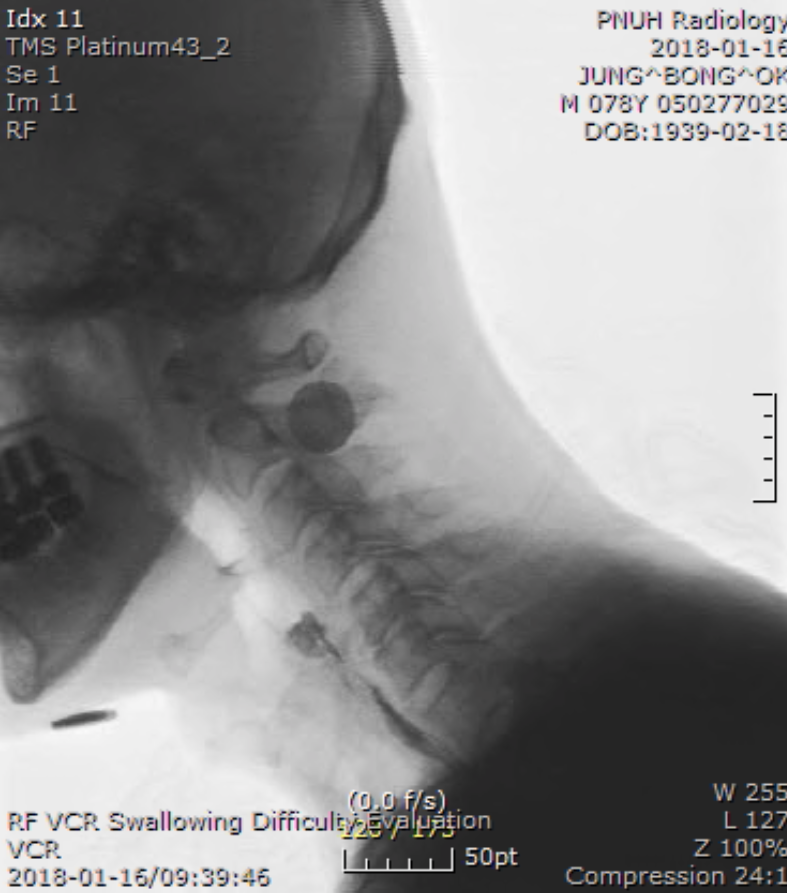dros: (258, 583, 330, 636)
food: (267, 607, 436, 748)
uros: (194, 527, 247, 581)
